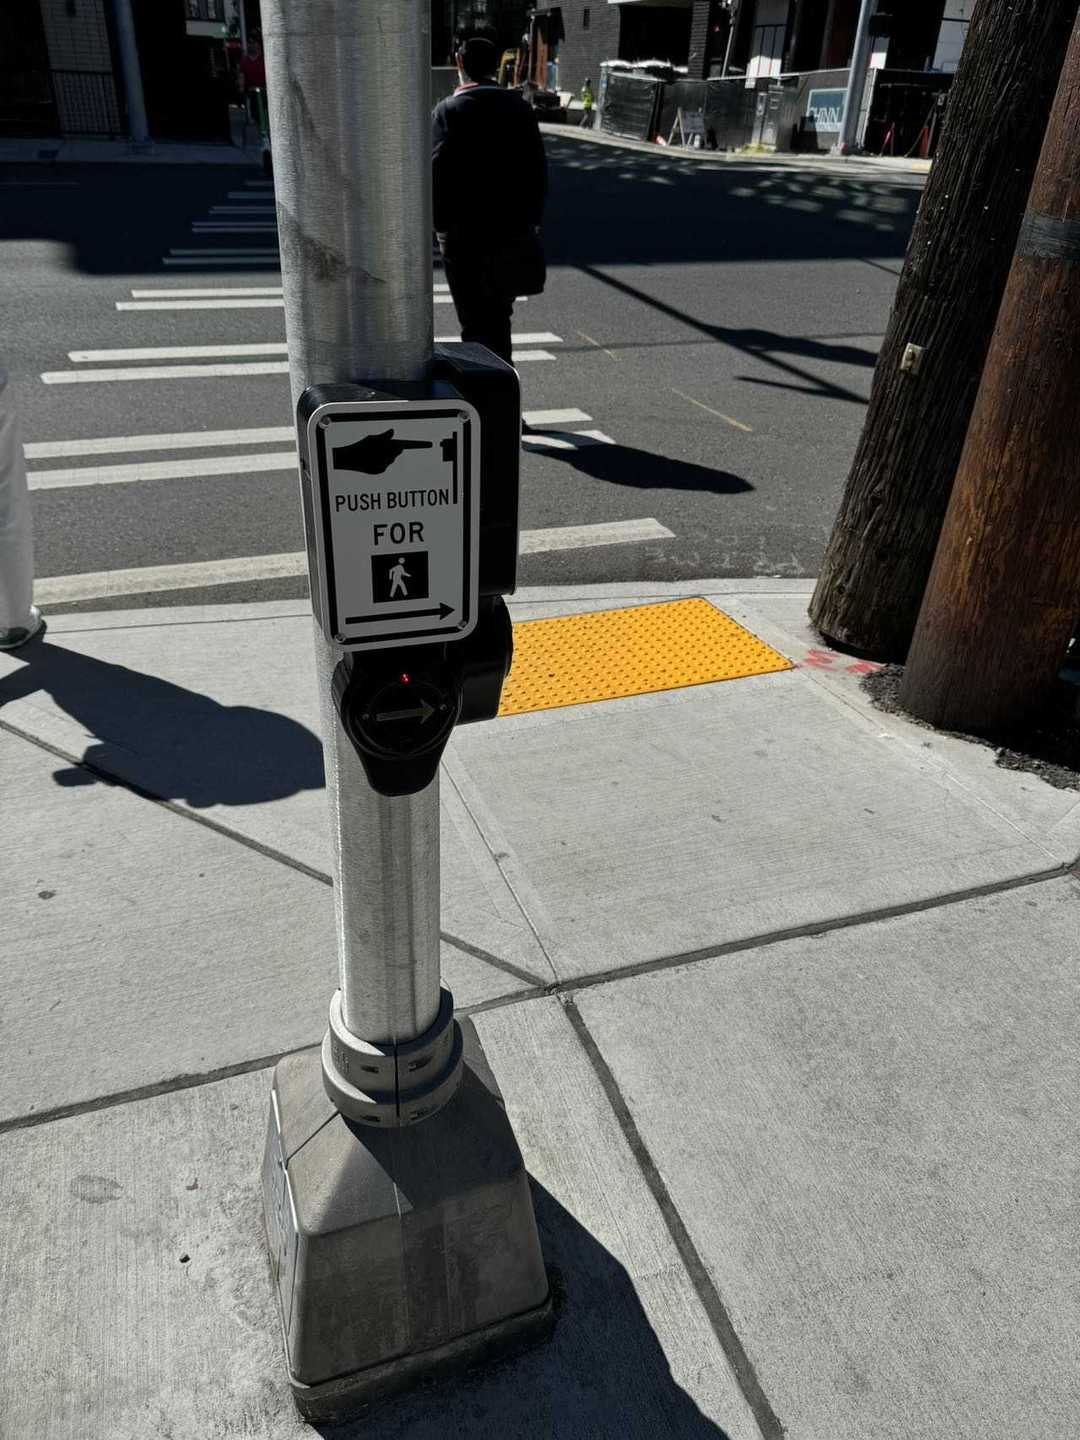ped_button: (290, 395, 483, 813)
